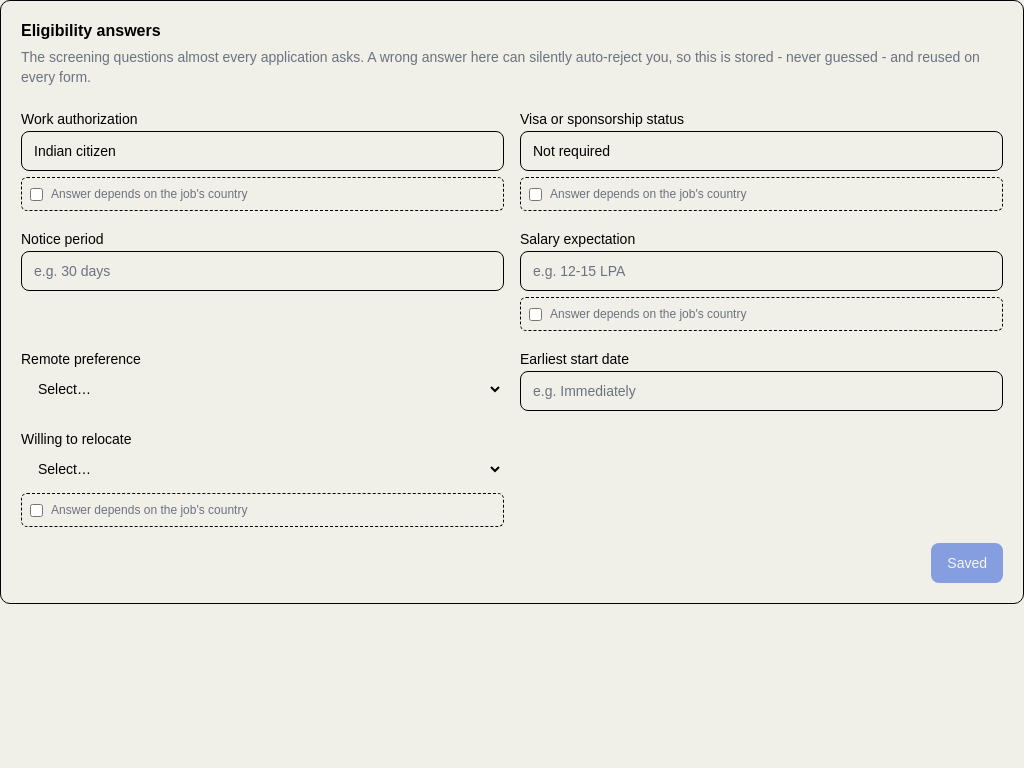
Test: EligibilityAnswers conditional rule toggle › reveals same-country and default inputs when checked
Click the checkbox labelled "Answer depends on the job's country" below "Work authorization". click: {"x": 36, "y": 194}
box: [30,188,43,200]
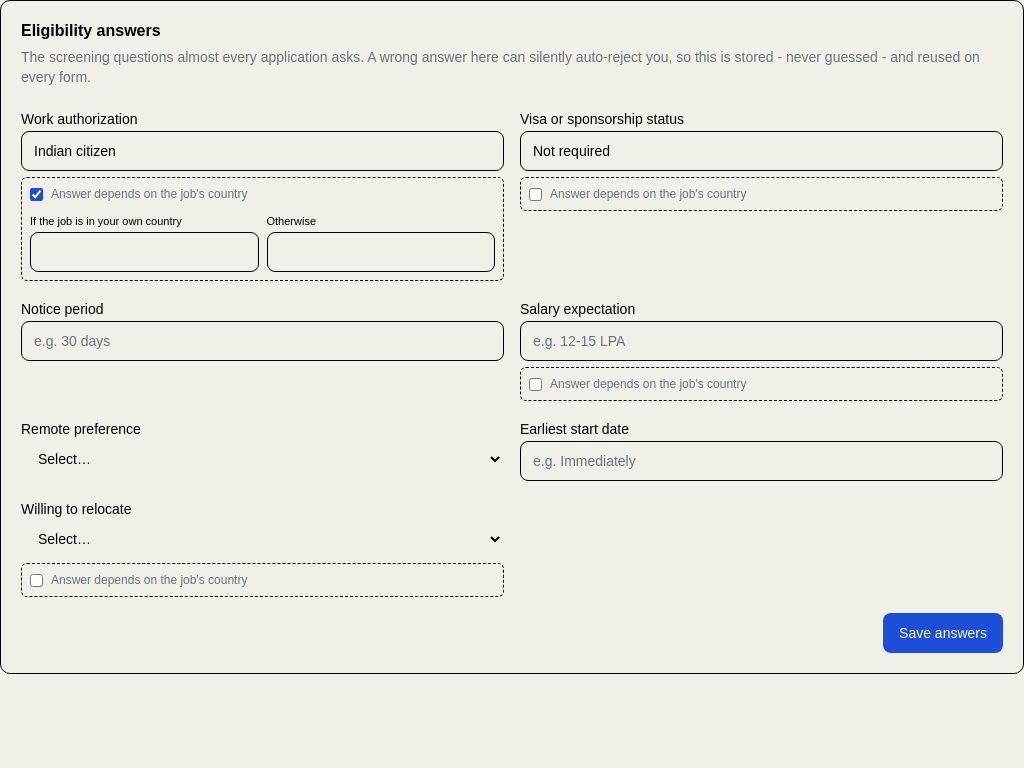
expect the text "If the job is in your own country" is shown: met, box [30,215,182,227]
expect the text "Otherwise" is shown: met, box [266,215,316,227]
